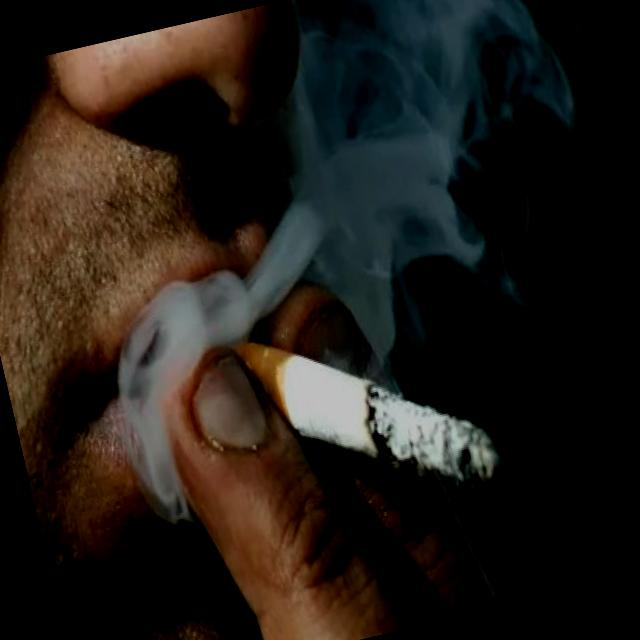cigarette: (219, 276, 512, 544)
